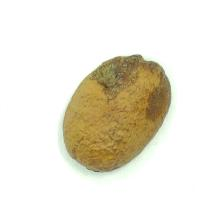NG: (89, 51, 172, 122)
